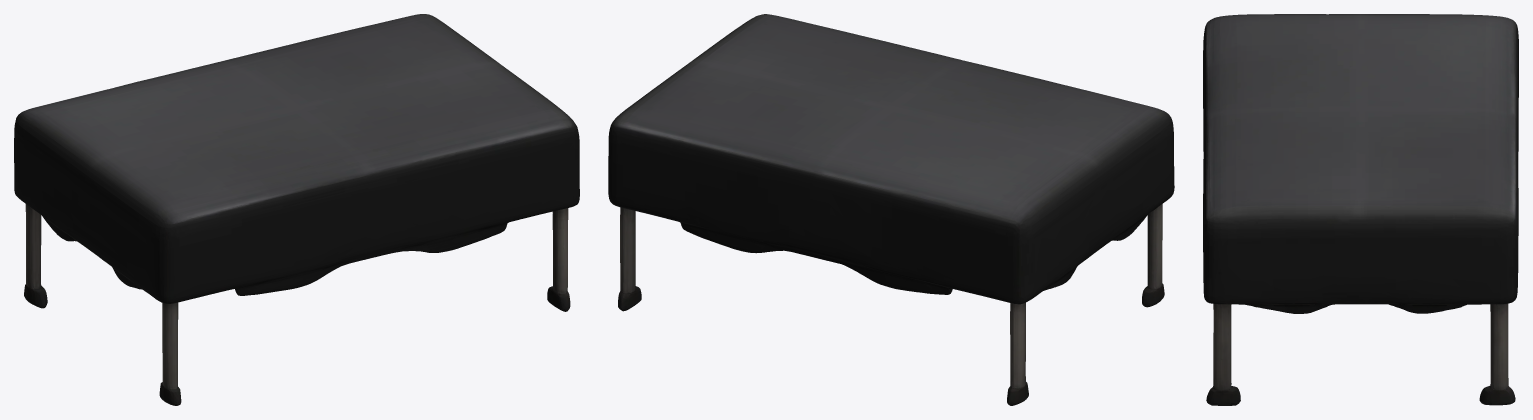
The model's file is b2Seat.glb.
The picture shows the model from 3 angles, left to right: view 1: azimuth 30°, elevation 25°; view 2: azimuth 150°, elevation 25°; view 3: azimuth 270°, elevation 25°; orthographic projection.
Parts seen in each view (by area): view 1: geometry_0; view 2: geometry_0; view 3: geometry_0.
Part boxes in pixels (box(x1,y1,x2,y2)): geometry_0: box(14, 14, 579, 405); geometry_0: box(608, 14, 1174, 405); geometry_0: box(1203, 14, 1518, 405).
Bounding box in the file's own units: 1 × 0.4479 × 0.639.
1 material, 1 textured.
